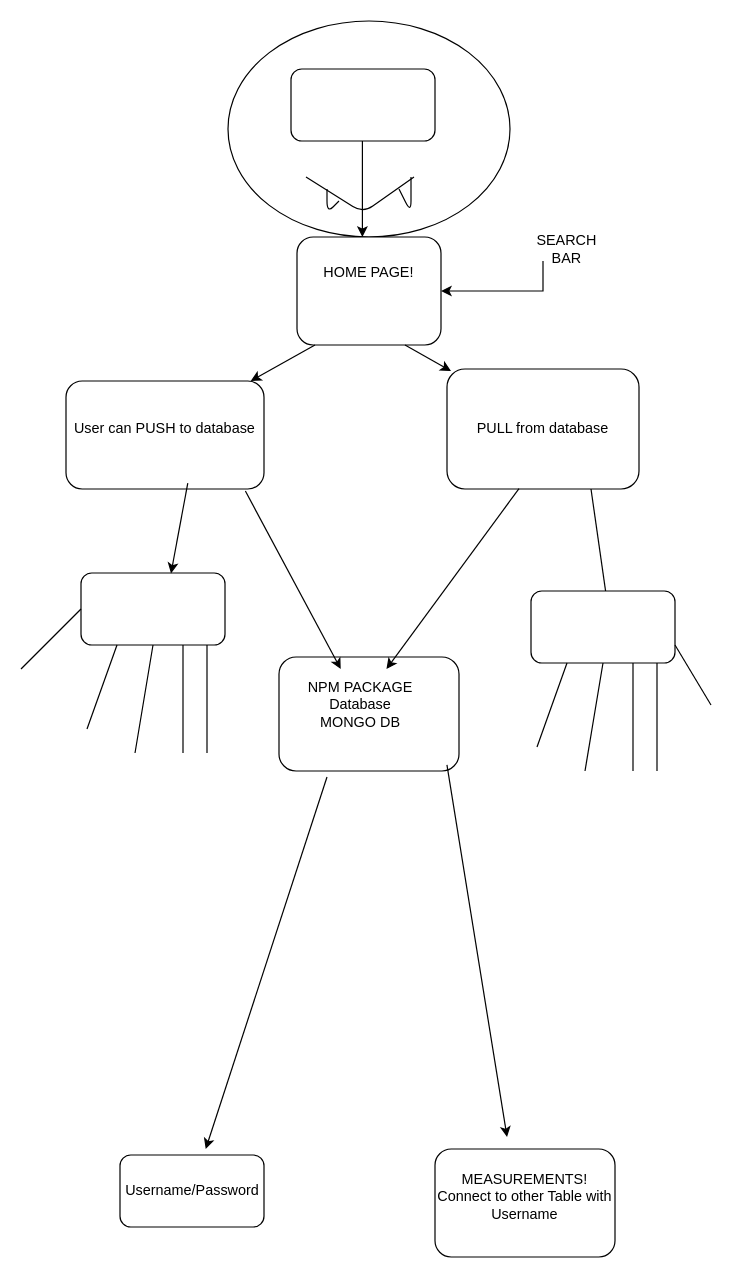
Image size: 733x1278. Some labels were removed from this diagram. The shapes that lost their labels are listed below. From the top down, each one's centre as x and y in pixels, then its label:
the point at 362,104: Login
the point at 152,608: Get Email
the point at 602,626: PULLS MEASUREMENTS From search
